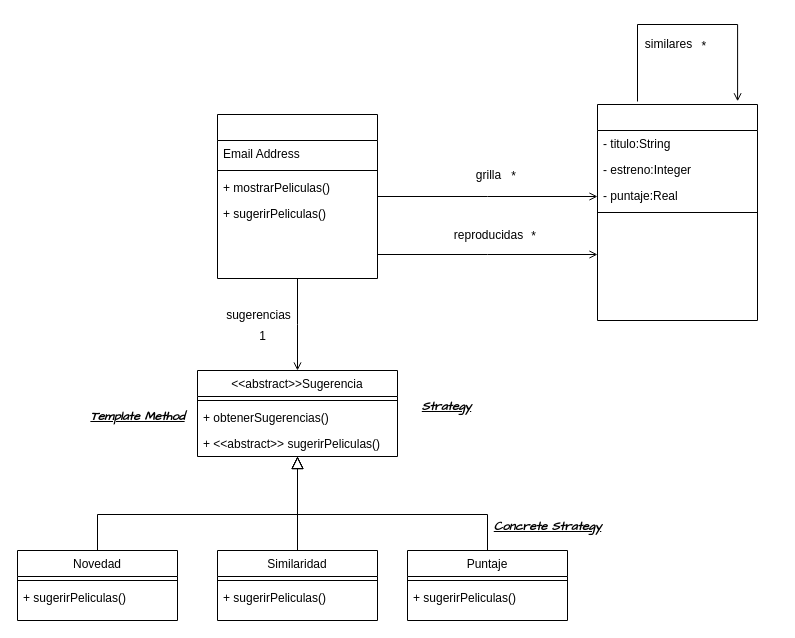
The diagram is 795 pixels wide and 638 high, and some of its shapes have lost their labels. The box of each missing label's shape, as (x1, y1, x2, y2) in pixels:
Decodificador: (216, 114, 378, 278)
Pelicula: (596, 104, 758, 320)
